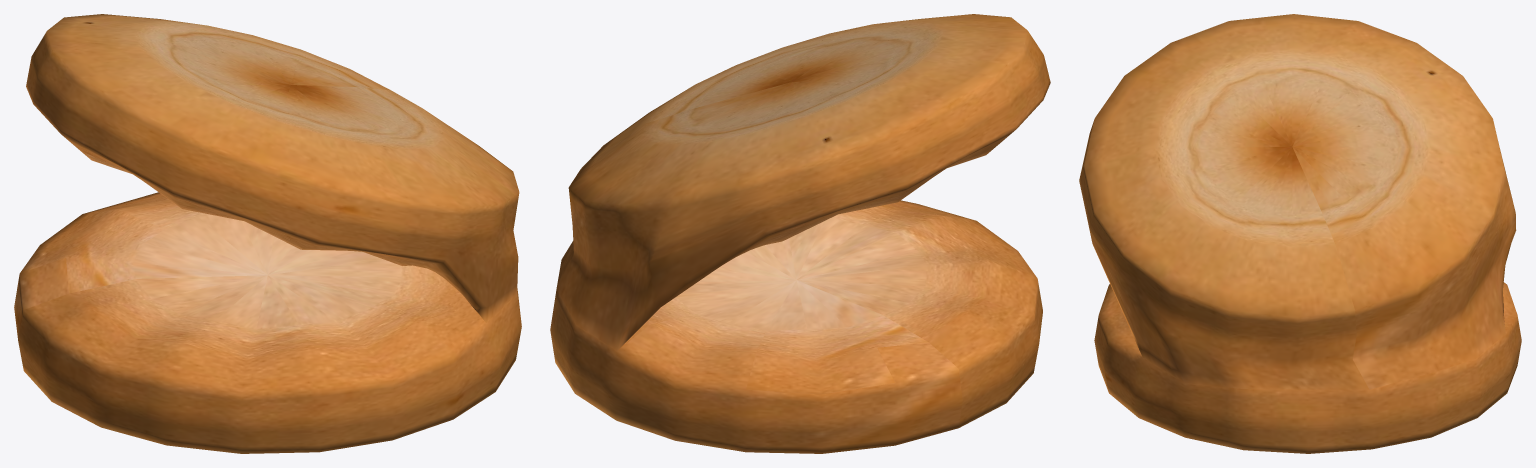
Rendered from sliced bun.fbx.
3 views of the same model, side by side, from view 1: azimuth 30°, elevation 25°; view 2: azimuth 150°, elevation 25°; view 3: azimuth 270°, elevation 25° (orthographic). The views are drawn at different scales.
Parts seen in each view (by area): view 1: Torus.001; view 2: Torus.001; view 3: Torus.001.
Boxes of the visible parts, x1,y1,x2,y2 form: Torus.001: (14, 14, 521, 453); Torus.001: (550, 14, 1050, 453); Torus.001: (1079, 14, 1521, 453).
Bounding box in the file's own units: 14.06 × 10.57 × 14.69.
1 material, 1 textured.
